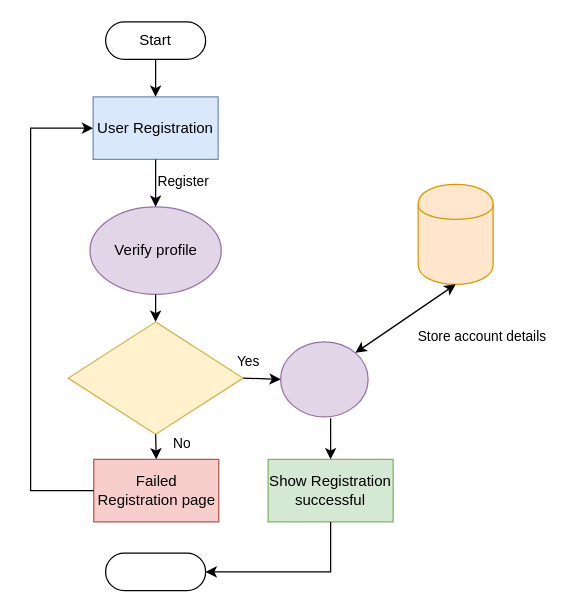
Some shapes in this 568 by 613 pixel diagram are drawn without their labels. The centre of each missing label's shape, as x and y in pixels:
End: point (155, 571)
Registration detials verified: point (155, 377)
Store account: point (323, 379)
